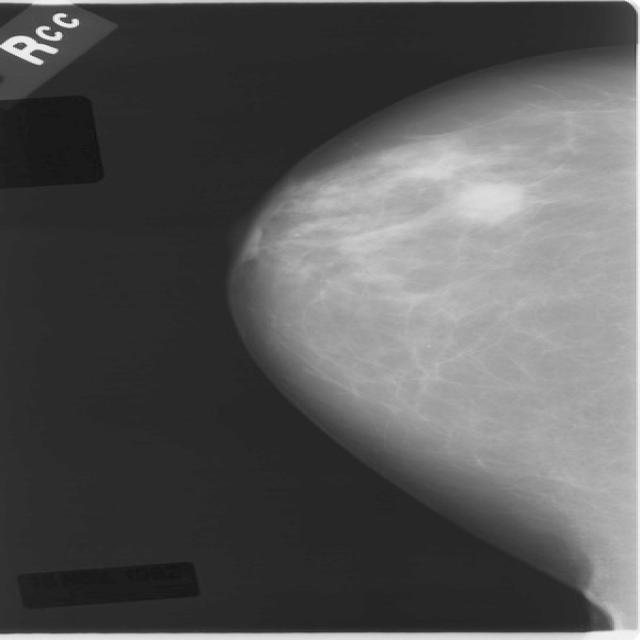tumour: (446, 180, 523, 224)
